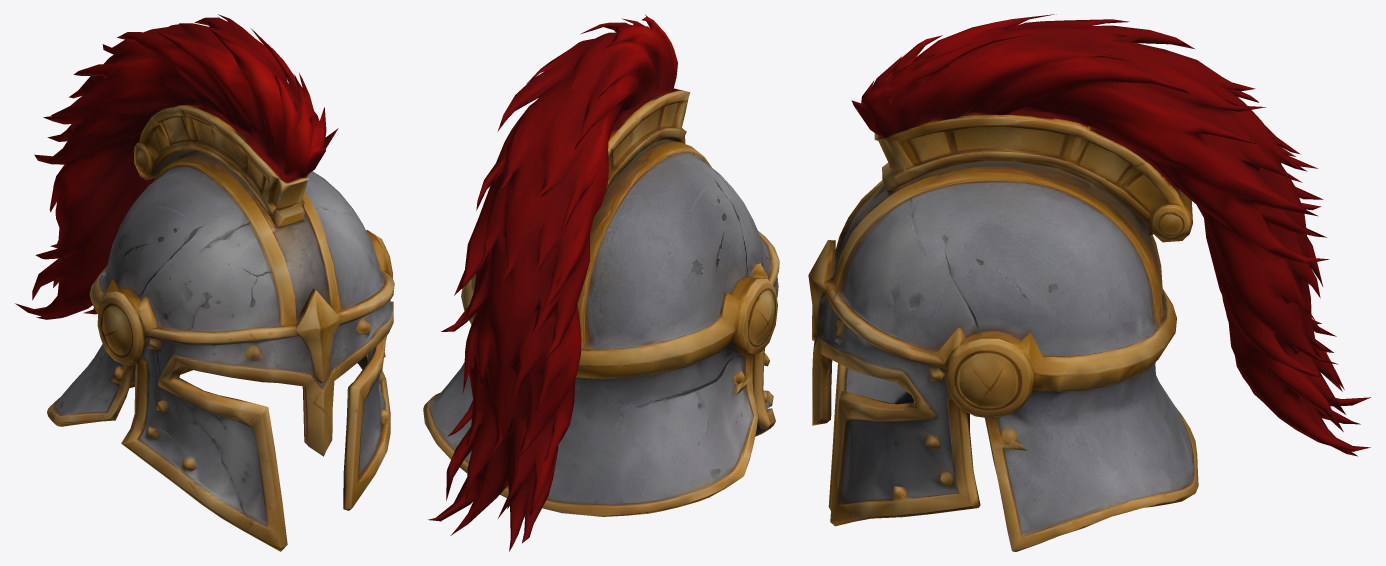
File: helmet_(troops_icon).fbx
The picture shows the model from 3 angles, left to right: view 1: azimuth 30°, elevation 25°; view 2: azimuth 150°, elevation 25°; view 3: azimuth 270°, elevation 25°; orthographic projection. The views are drawn at different scales.
Visible parts, largest first — view 1: tripo_node_36dc1a7d; view 2: tripo_node_36dc1a7d; view 3: tripo_node_36dc1a7d.
Boxes of the visible parts, left/top/right/bottom form: tripo_node_36dc1a7d: left=15, top=14, right=394, bottom=551; tripo_node_36dc1a7d: left=423, top=14, right=779, bottom=551; tripo_node_36dc1a7d: left=808, top=14, right=1370, bottom=551.
Bounding box in the file's own units: 71.25 × 99.21 × 100.
1 material, 1 textured.
